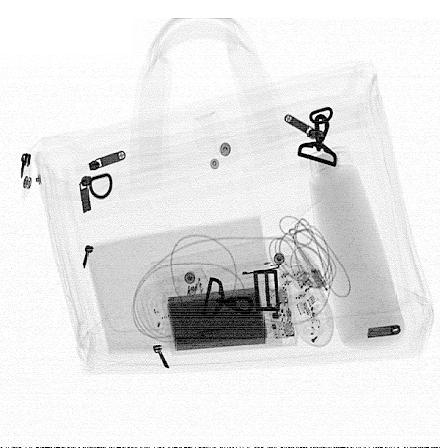Powerbank: (162, 278, 299, 357)
